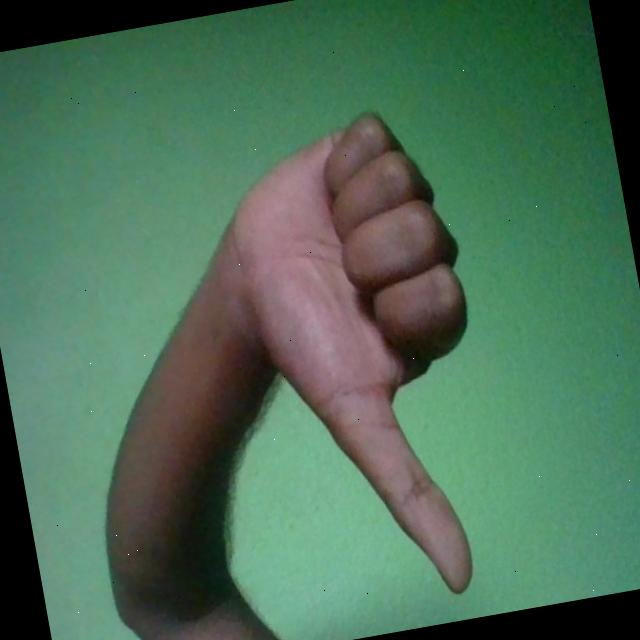Dislike: (210, 100, 519, 624)
